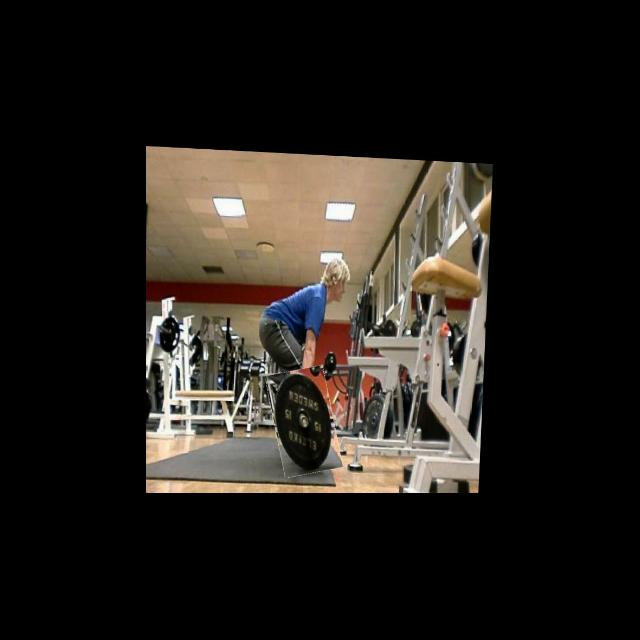barbell: (270, 363, 343, 475)
